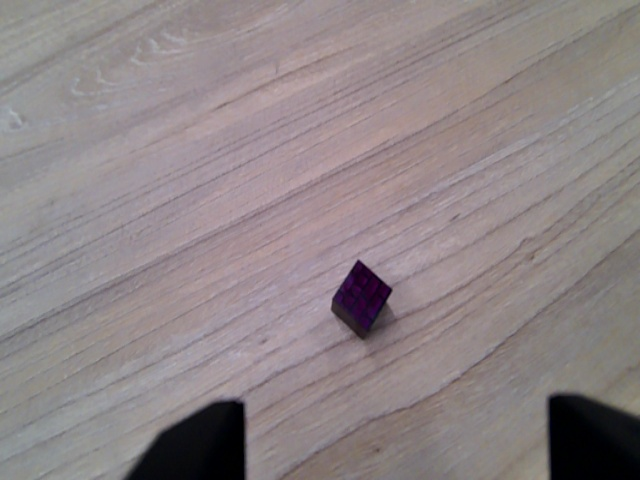brick: (329, 257, 394, 342)
